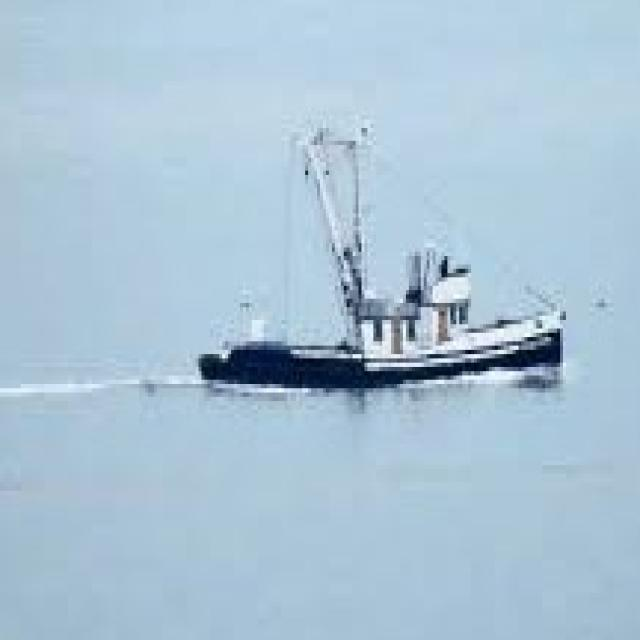fishing boat: (188, 113, 584, 384)
